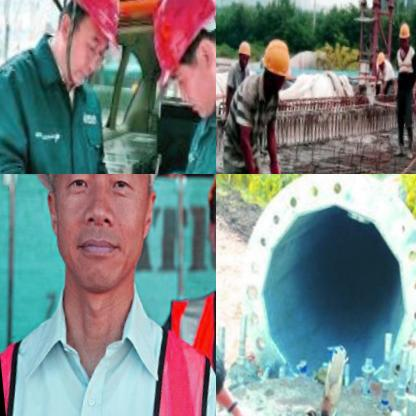helmet: (0, 174, 199, 339), (125, 0, 216, 127), (31, 0, 138, 95), (175, 174, 216, 308), (251, 32, 295, 98), (229, 38, 251, 70), (391, 18, 410, 53), (370, 49, 386, 74)
